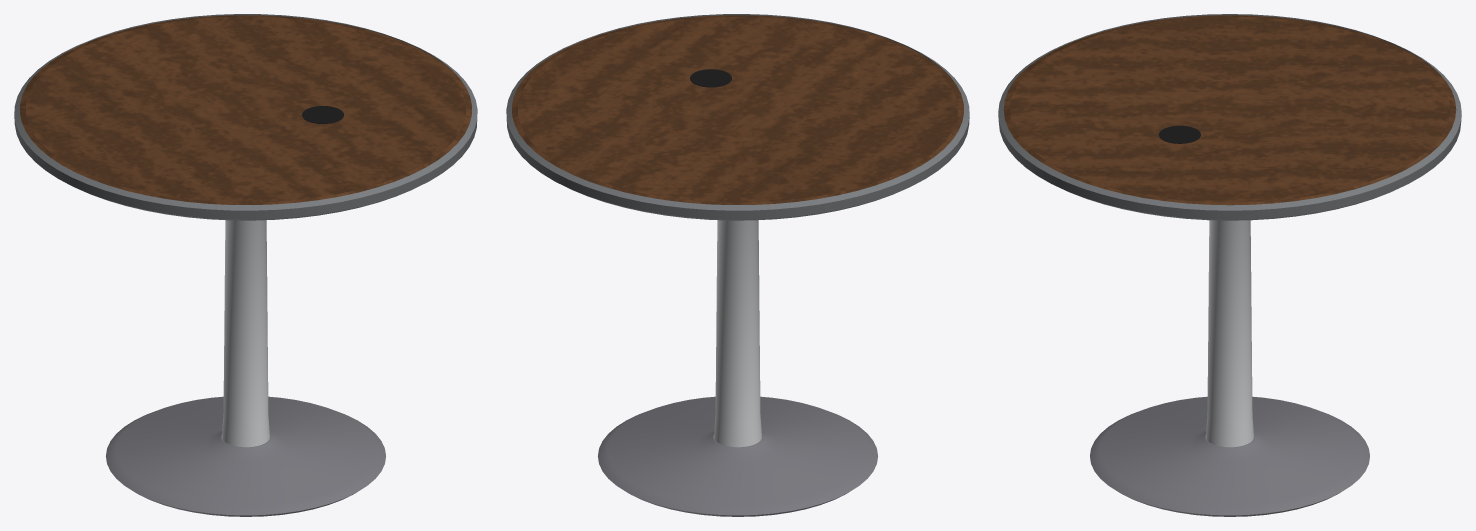
Rendered from FoodCourtTable.fbx.
3 renders of one model, left to right at view 1: azimuth 30°, elevation 25°; view 2: azimuth 150°, elevation 25°; view 3: azimuth 270°, elevation 25°, orthographic.
Parts seen in each view (by area): view 1: FoodCourtTable; view 2: FoodCourtTable; view 3: FoodCourtTable.
Part boxes in pixels (left/top/right/bottom): FoodCourtTable: left=14, top=14, right=477, bottom=516; FoodCourtTable: left=506, top=14, right=969, bottom=516; FoodCourtTable: left=998, top=14, right=1461, bottom=516.
Size of the model in its own units: 0.926 by 0.773 by 0.926.
